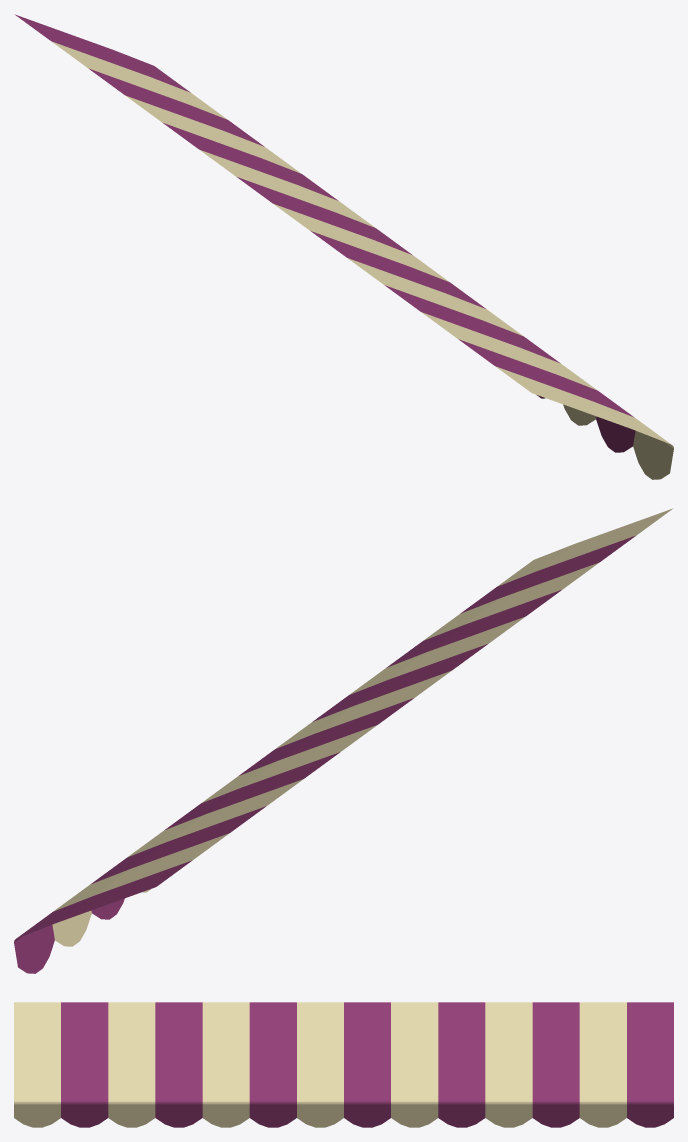
Rendered from SM_Jumts.fbx.
3 renders of one model, top to bottom at view 1: azimuth 30°, elevation 25°; view 2: azimuth 150°, elevation 25°; view 3: azimuth 270°, elevation 25°, orthographic. The views are drawn at different scales.
Visible parts, largest first — view 1: Plane.022; view 2: Plane.022; view 3: Plane.022.
Boxes of the visible parts, x1,y1,x2,y2 form: Plane.022: (15,14,673,479); Plane.022: (14,508,672,973); Plane.022: (14,1002,673,1127).
Bounding box in the file's own units: 166 × 145 × 1044.
